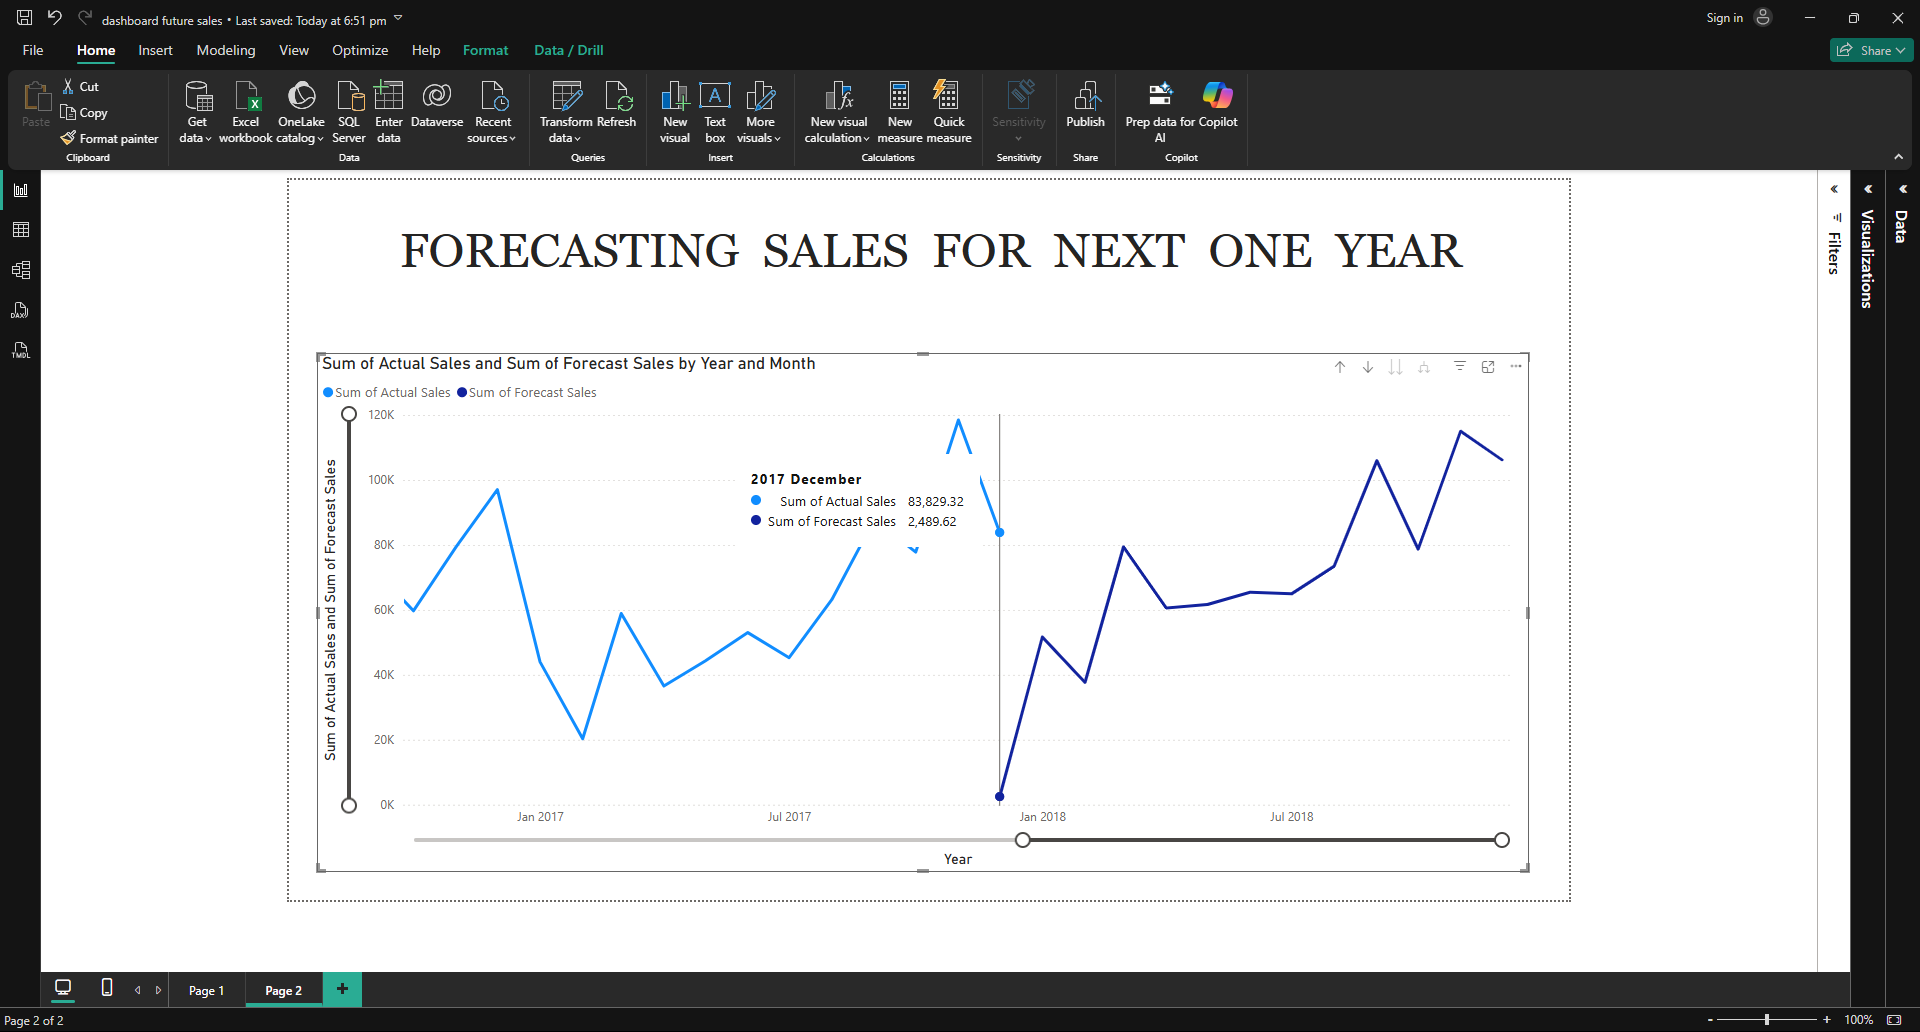

Layout of this report page (visuals, bound fields, positions):
{"tool":"powerbi","page":{"name":"Page 2","canvas":[1280,720],"ordinal":1},"visuals":[{"type":"lineChart","fields":{"Category":["clean_sales_forecast.Date.Variation.Date Hierarchy.Year","clean_sales_forecast.Date.Variation.Date Hierarchy.Month"],"Y":["Sum(clean_sales_forecast.Actual Sales)","Sum(clean_sales_forecast.Forecast Sales )"]},"box":[71,44,1101,265],"z":0},{"type":"lineChart","fields":{"Category":["clean_sales_forecast.Date.Variation.Date Hierarchy.Year","clean_sales_forecast.Date.Variation.Date Hierarchy.Month"],"Y":["clean_sales_forecast.Yearly Actual Sales","clean_sales_forecast.Yearly Predicted Sales"]},"box":[71,349,1086,283],"z":1000}]}

Visuals, with their boxes on the page's 1280x720 design canvas (x1, y1, x2, y2). These are canvas units, not pixel positions in the 1920x1032 screenshot, which may show the page scaled, cropped or inside an application window:
lineChart - clean_sales_forecast.Date.Variation.Date Hierarchy.Year x clean_sales_forecast.Date.Variation.Date Hierarchy.Month: locate(71, 44, 1172, 309)
lineChart - clean_sales_forecast.Date.Variation.Date Hierarchy.Year x clean_sales_forecast.Date.Variation.Date Hierarchy.Month: locate(71, 349, 1157, 632)
